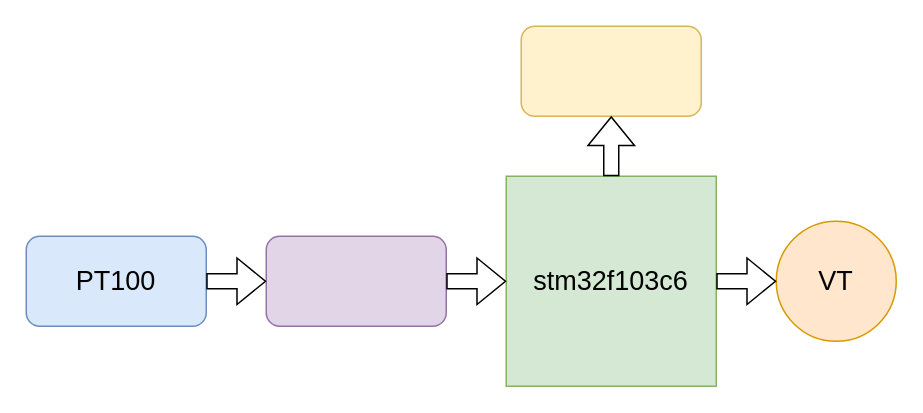
Some shapes in this 923 by 413 pixel diagram are drawn without their labels. Each missing label, with the box of its shape:
LCD1602: (520, 25, 701, 116)
OP: (265, 235, 446, 326)
